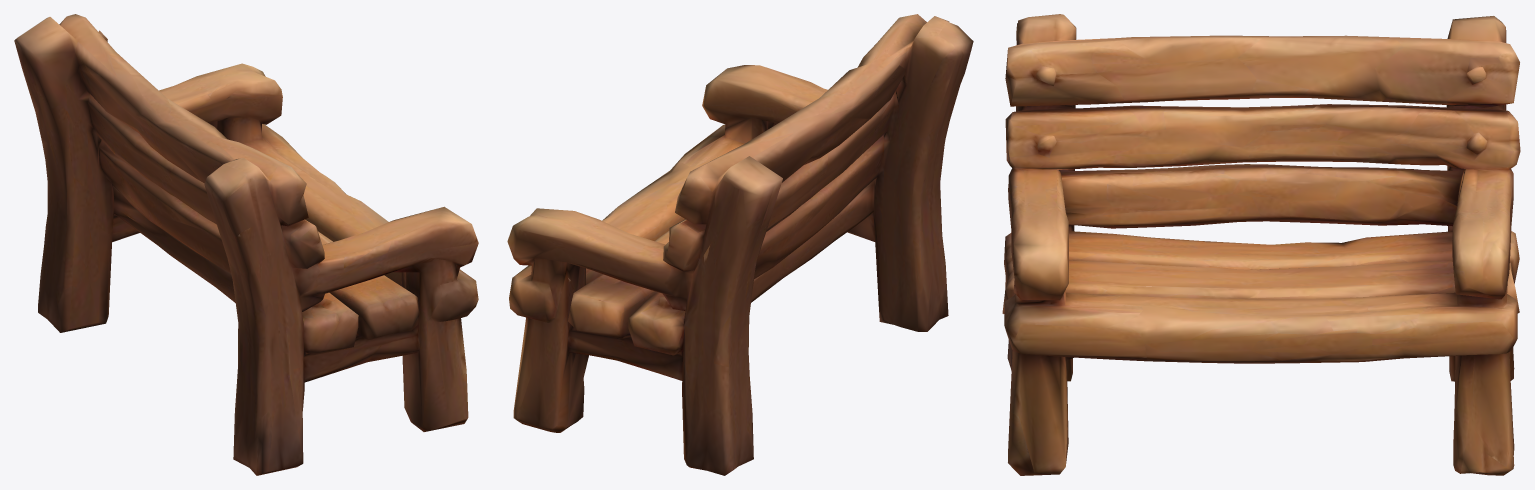
File: bench_l3.glb
3 views of the same model, side by side, from view 1: azimuth 30°, elevation 25°; view 2: azimuth 150°, elevation 25°; view 3: azimuth 270°, elevation 25° (orthographic). The views are drawn at different scales.
Parts seen in each view (by area): view 1: tripo_node_66807357-fffb-4544-899c-bf5d4bab21b3; view 2: tripo_node_66807357-fffb-4544-899c-bf5d4bab21b3; view 3: tripo_node_66807357-fffb-4544-899c-bf5d4bab21b3.
Part boxes in pixels (bbox=[...]): tripo_node_66807357-fffb-4544-899c-bf5d4bab21b3: bbox=[14, 14, 478, 475]; tripo_node_66807357-fffb-4544-899c-bf5d4bab21b3: bbox=[507, 14, 973, 475]; tripo_node_66807357-fffb-4544-899c-bf5d4bab21b3: bbox=[1002, 14, 1520, 475].
Bounding box in the file's own units: 0.6351 × 0.7223 × 0.9806.
1 material, 1 textured.
